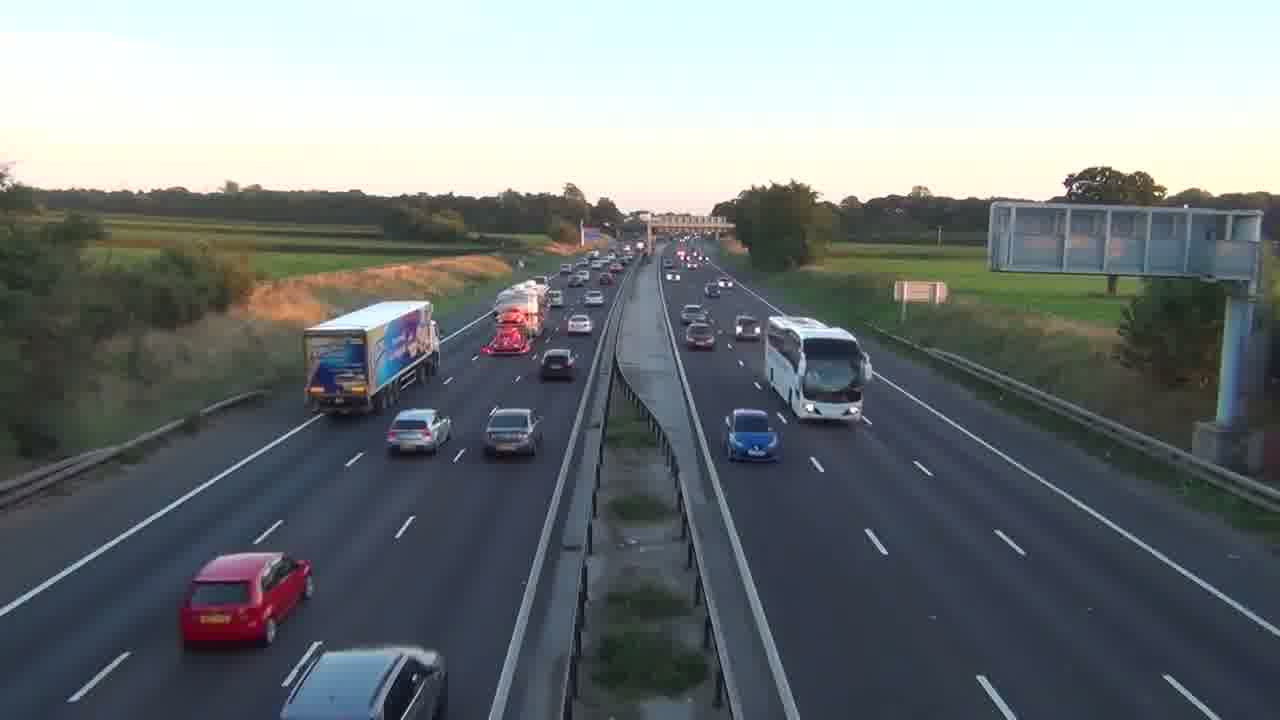bus: (764, 312, 871, 423)
car: (177, 550, 315, 648), (279, 640, 448, 718), (722, 408, 782, 463), (385, 408, 453, 455), (482, 407, 545, 457), (539, 346, 578, 382), (684, 320, 716, 351), (733, 313, 765, 341), (565, 313, 594, 335)
truck: (302, 299, 438, 416), (484, 283, 550, 355)
